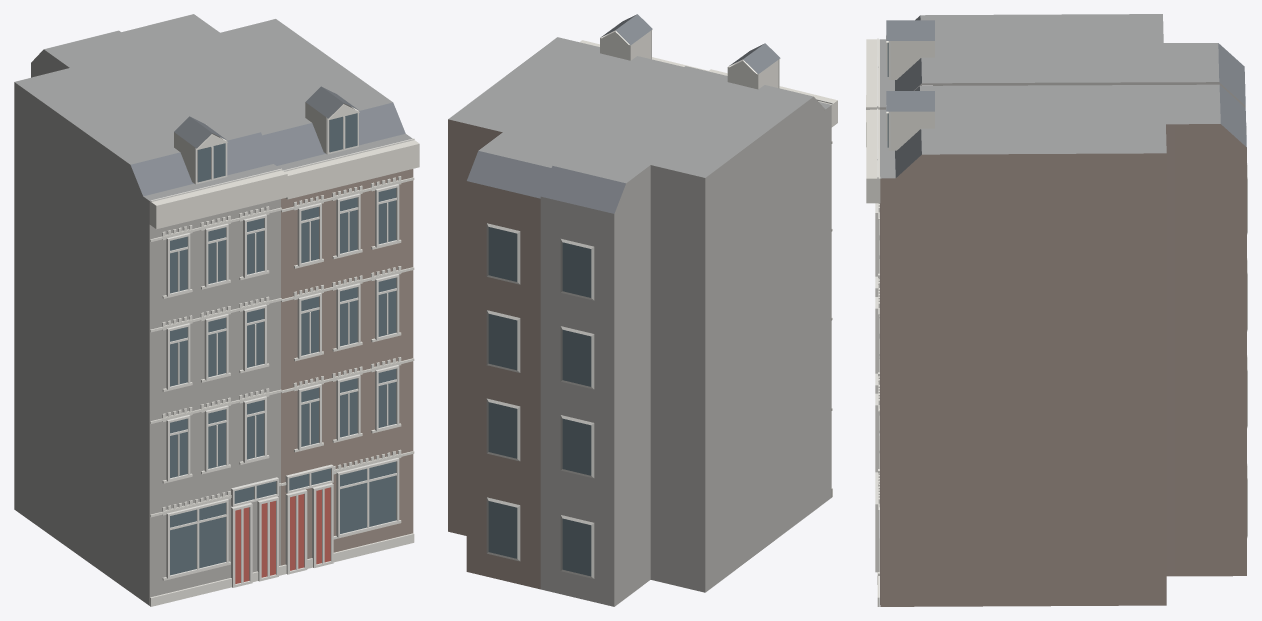
File: chunk-face-houweningen-1-31-r2.glb
3 renders of one model, left to right at view 1: azimuth 30°, elevation 25°; view 2: azimuth 150°, elevation 25°; view 3: azimuth 270°, elevation 25°, orthographic. The views are drawn at different scales.
Visible parts, largest first — view 1: face-houweningen-1-31-r2; view 2: face-houweningen-1-31-r2; view 3: face-houweningen-1-31-r2.
Boxes of the visible parts, x1,y1,x2,y2 form: face-houweningen-1-31-r2: (14, 14, 419, 606); face-houweningen-1-31-r2: (448, 14, 837, 606); face-houweningen-1-31-r2: (866, 14, 1247, 606).
Bounding box in the file's own units: 9.5 × 15.51 × 11.09.
